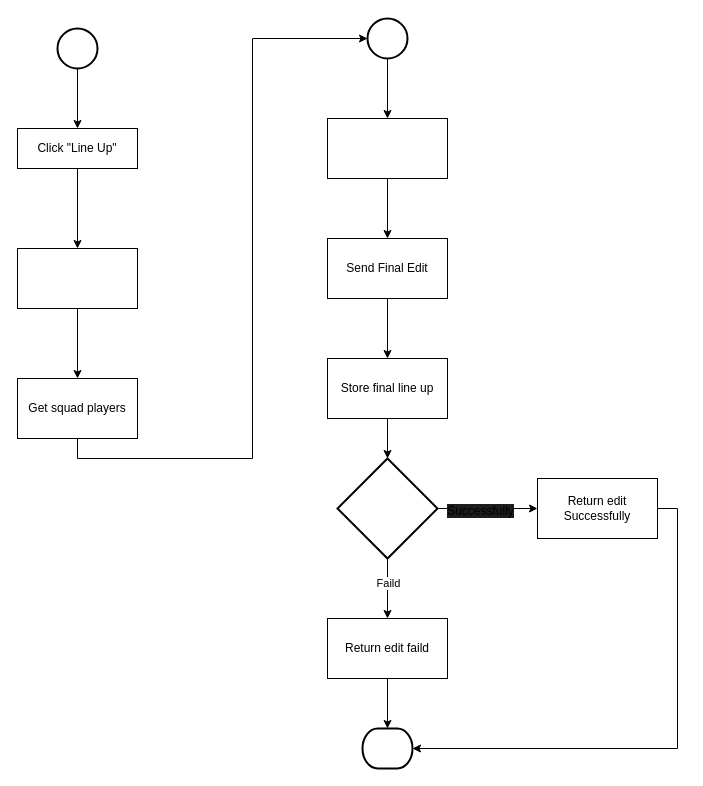
This 703x786 diagram has some shape labels left out. The shapes that lost their labels are listed below. From the top down, each one's centre as x and y in pixels, then its label:
the point at 387,148: Edit Line Up
the point at 77,278: Request current squad
the point at 387,508: if Line Up is True
